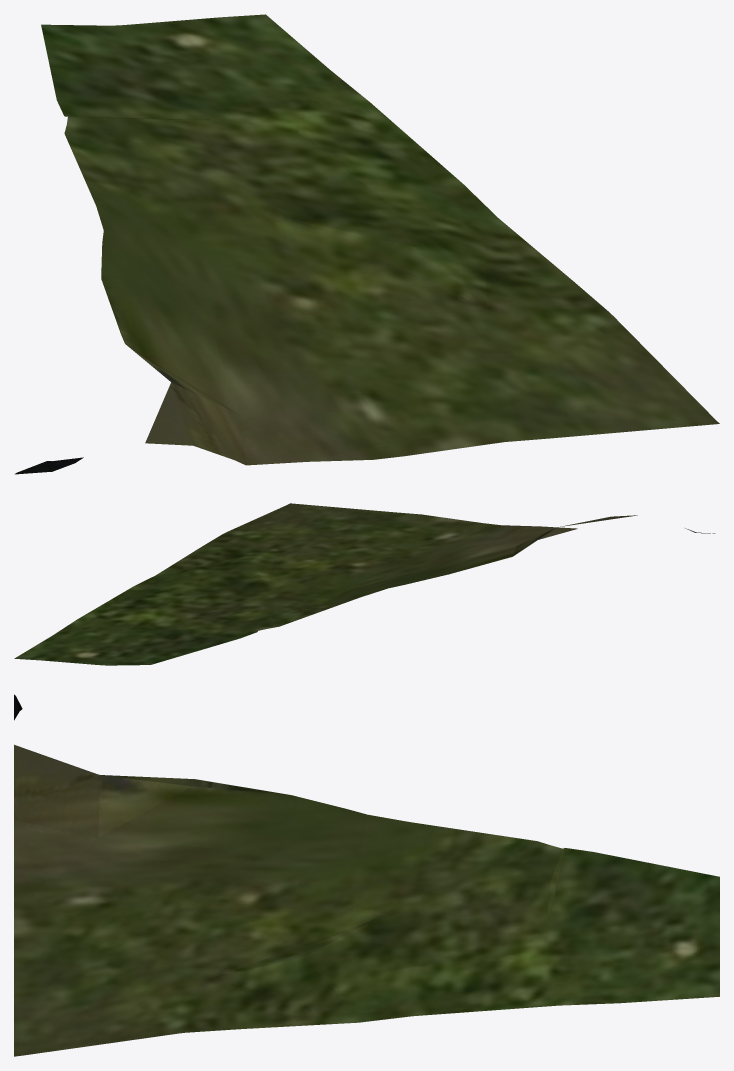
3 views of the same model, one above another, from view 1: azimuth 30°, elevation 25°; view 2: azimuth 150°, elevation 25°; view 3: azimuth 270°, elevation 25° (orthographic). The views are drawn at different scales.
Bounding box in the file's own units: 1.5 × 0.2476 × 1.67.
2 materials, 2 textured.
